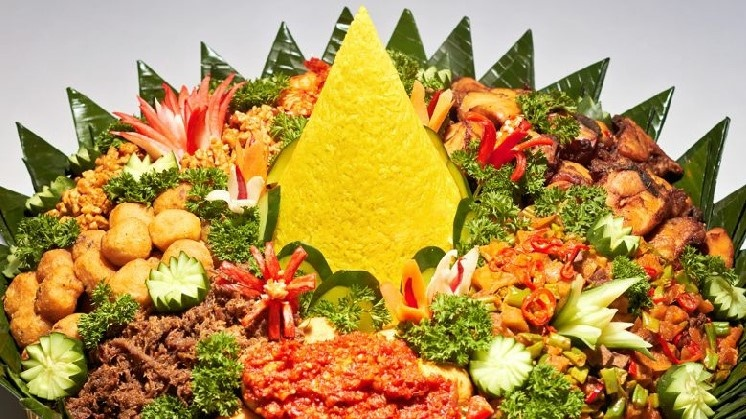tumpeng: (260, 16, 489, 260)
